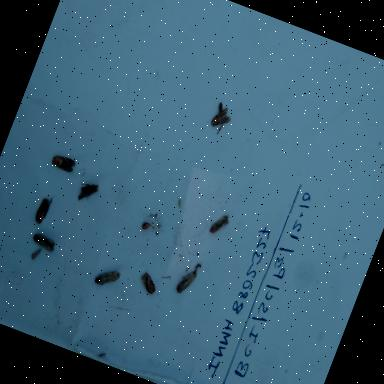pbw: (174, 257, 204, 300), (202, 206, 234, 243), (90, 263, 124, 293), (72, 176, 102, 207), (134, 266, 163, 298), (48, 149, 80, 177), (26, 228, 60, 254), (30, 194, 54, 228), (209, 105, 236, 134), (172, 196, 186, 212)
